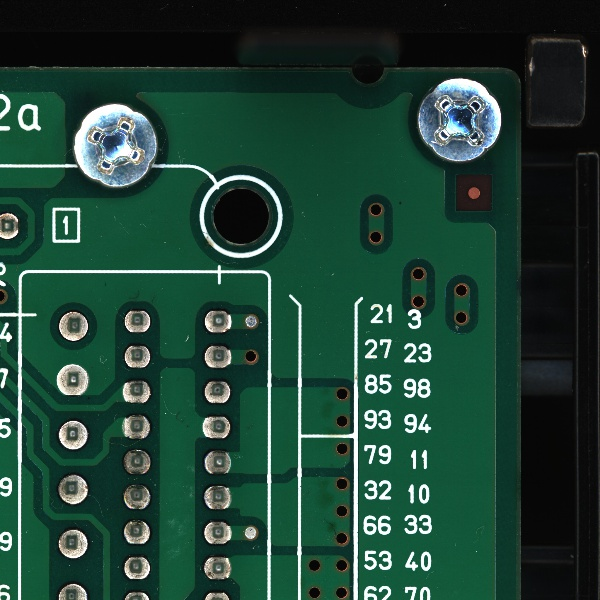Circle: (53, 361, 93, 400), (54, 415, 90, 455), (53, 471, 91, 508), (53, 525, 90, 560), (55, 309, 91, 344), (117, 304, 155, 337), (199, 411, 234, 445), (199, 480, 236, 512), (120, 515, 153, 548), (200, 446, 234, 478), (200, 518, 236, 548), (120, 340, 153, 372), (121, 446, 154, 478), (119, 552, 153, 583), (202, 307, 236, 338), (200, 376, 234, 407), (201, 553, 236, 583), (120, 377, 153, 408), (119, 482, 153, 512), (200, 341, 234, 370), (120, 413, 152, 441)
